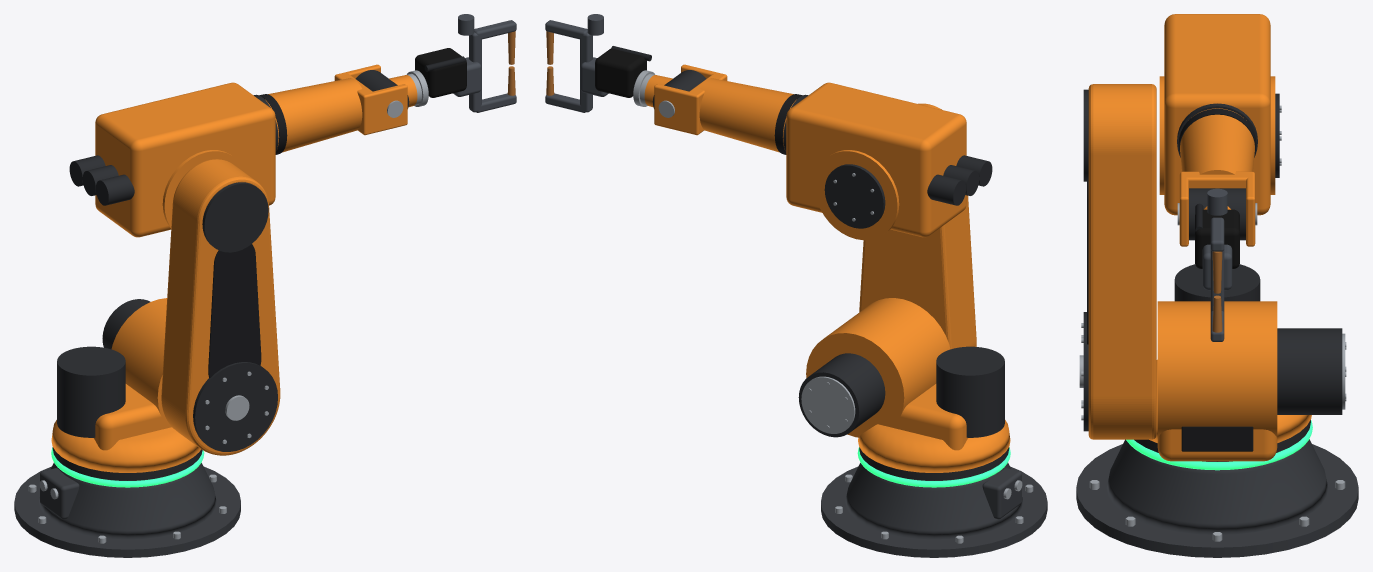
File: robot_welding.glb
3 renders of one model, left to right at view 1: azimuth 30°, elevation 25°; view 2: azimuth 150°, elevation 25°; view 3: azimuth 270°, elevation 25°, orthographic. The views are drawn at different scales.
Parts seen in each view (by area): view 1: Link3_body, Pedestal_base, Link2_body, Link1_body, Link2_joint, Link4_body, Link1_joint, Link2_accent, SpotGun_tool, Link3_joint, SpotGun_rubber, Pedestal_joint (+2 smaller); view 2: Link3_body, Link1_body, Pedestal_base, Link2_body, Link1_joint, Link4_body, Link3_joint, SpotGun_tool, Link1_steel, SpotGun_rubber, Pedestal_joint, StatusRing; view 3: Link2_body, Pedestal_base, Link1_body, Link3_body, Link1_joint, Link4_body, SpotGun_tool, Link1_accent, StatusRing, SpotGun_rubber, Link2_joint, Link5_joint (+6 smaller).
Boxes of the visible parts, left/top/right/bottom form: Link3_body: left=95, top=82, right=275, bottom=237; Pedestal_base: left=14, top=463, right=240, bottom=557; Link2_body: left=161, top=159, right=280, bottom=455; Link1_body: left=51, top=298, right=200, bottom=472; Link2_joint: left=193, top=182, right=277, bottom=451; Link4_body: left=265, top=64, right=407, bottom=152; Link1_joint: left=57, top=299, right=150, bottom=437; Link2_accent: left=208, top=244, right=261, bottom=378; SpotGun_tool: left=453, top=14, right=516, bottom=112; Link3_joint: left=69, top=155, right=134, bottom=205; SpotGun_rubber: left=415, top=48, right=466, bottom=97; Pedestal_joint: left=52, top=447, right=202, bottom=480; Link3_body: left=786, top=82, right=966, bottom=240; Link1_body: left=806, top=298, right=1010, bottom=472; Pedestal_base: left=821, top=463, right=1047, bottom=557; Link2_body: left=859, top=103, right=976, bottom=349; Link1_joint: left=798, top=346, right=1004, bottom=437; Link4_body: left=654, top=64, right=796, bottom=152; Link3_joint: left=824, top=155, right=992, bottom=228; SpotGun_tool: left=545, top=14, right=608, bottom=112; Link1_steel: left=801, top=376, right=855, bottom=433; SpotGun_rubber: left=595, top=48, right=646, bottom=97; Pedestal_joint: left=859, top=447, right=1009, bottom=480; StatusRing: left=857, top=447, right=1010, bottom=487; Link2_body: left=1088, top=84, right=1156, bottom=439; Pedestal_base: left=1076, top=439, right=1358, bottom=557; Link1_body: left=1149, top=301, right=1311, bottom=461; Link3_body: left=1159, top=14, right=1275, bottom=215; Link1_joint: left=1174, top=264, right=1342, bottom=414; Link4_body: left=1179, top=108, right=1255, bottom=246; SpotGun_tool: left=1202, top=188, right=1232, bottom=341; Link1_accent: left=1181, top=426, right=1253, bottom=451; StatusRing: left=1126, top=420, right=1312, bottom=470; SpotGun_rubber: left=1195, top=209, right=1239, bottom=268; Link2_joint: left=1083, top=89, right=1088, bottom=431; Link5_joint: left=1189, top=188, right=1245, bottom=240.
Bounding box in the file's own units: 3.09 × 2.49 × 1.25.
